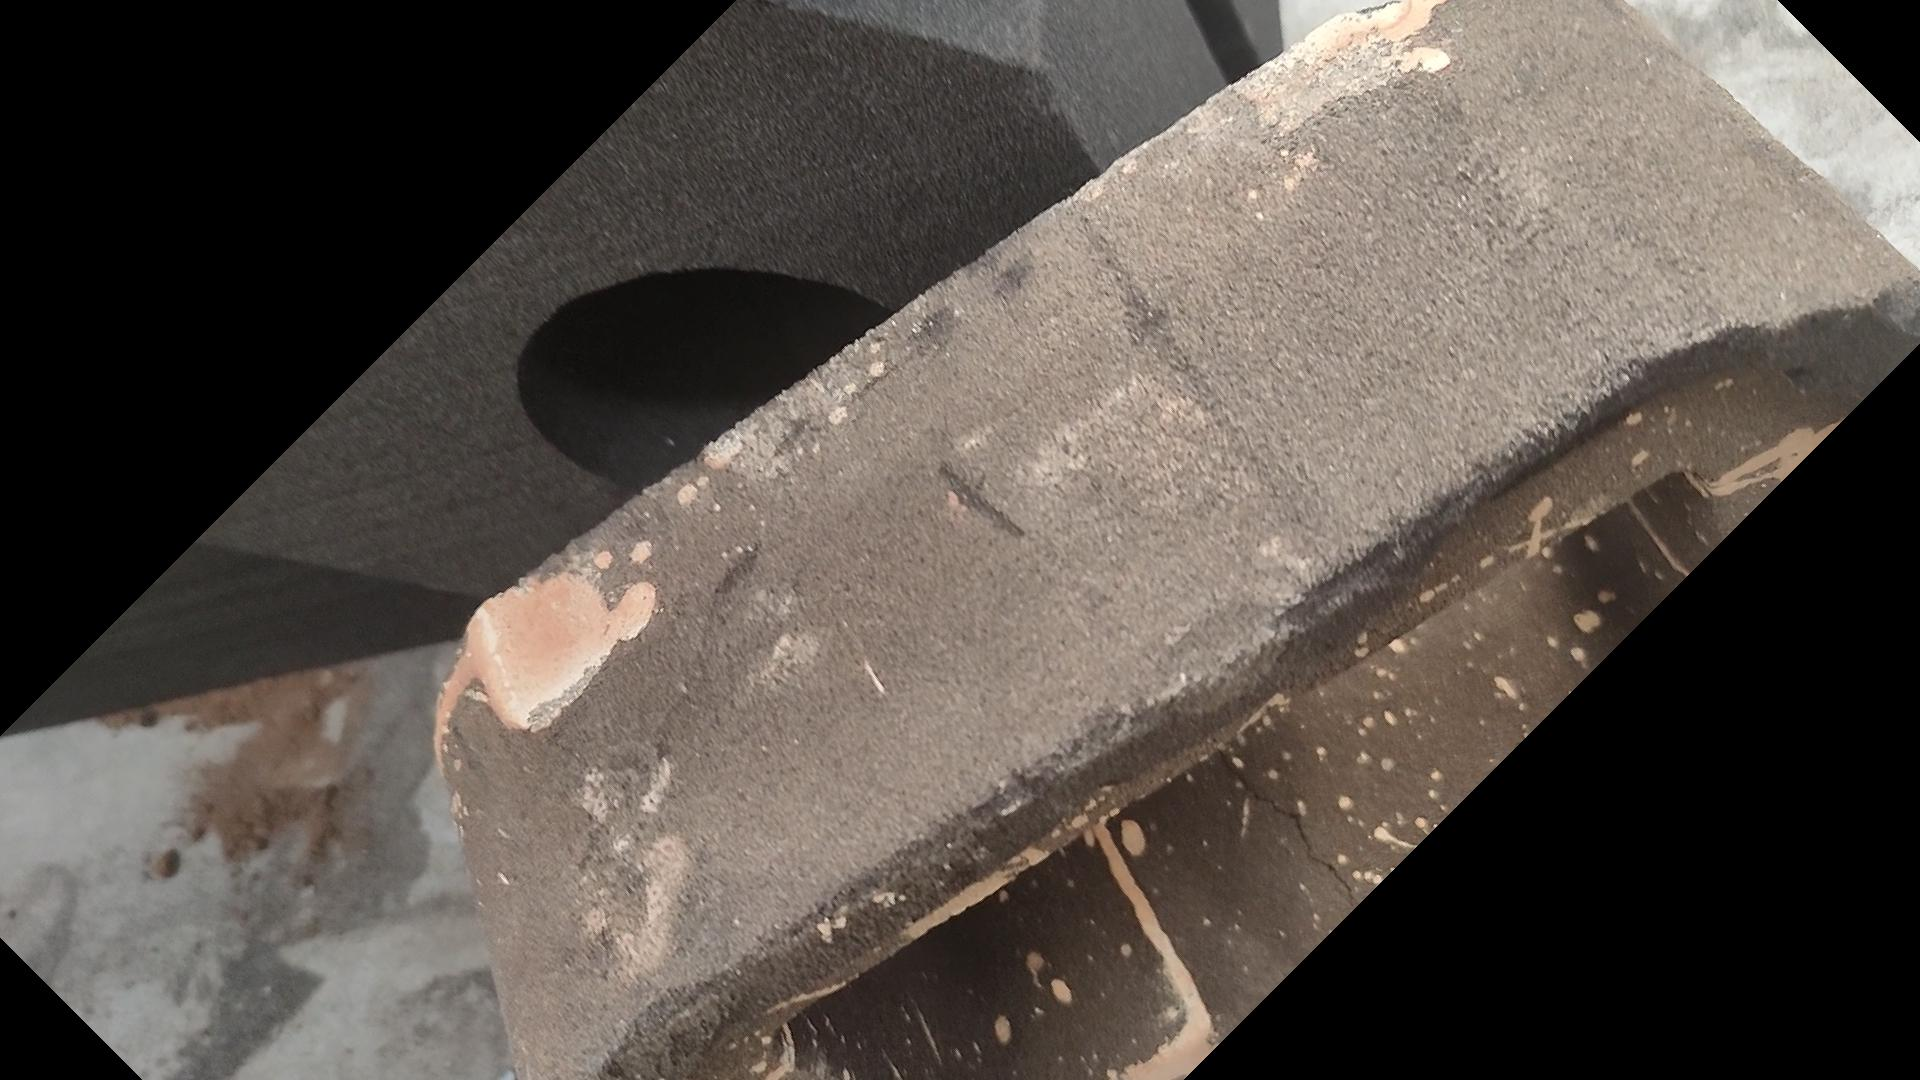pouring hole: (516, 268, 963, 506)
